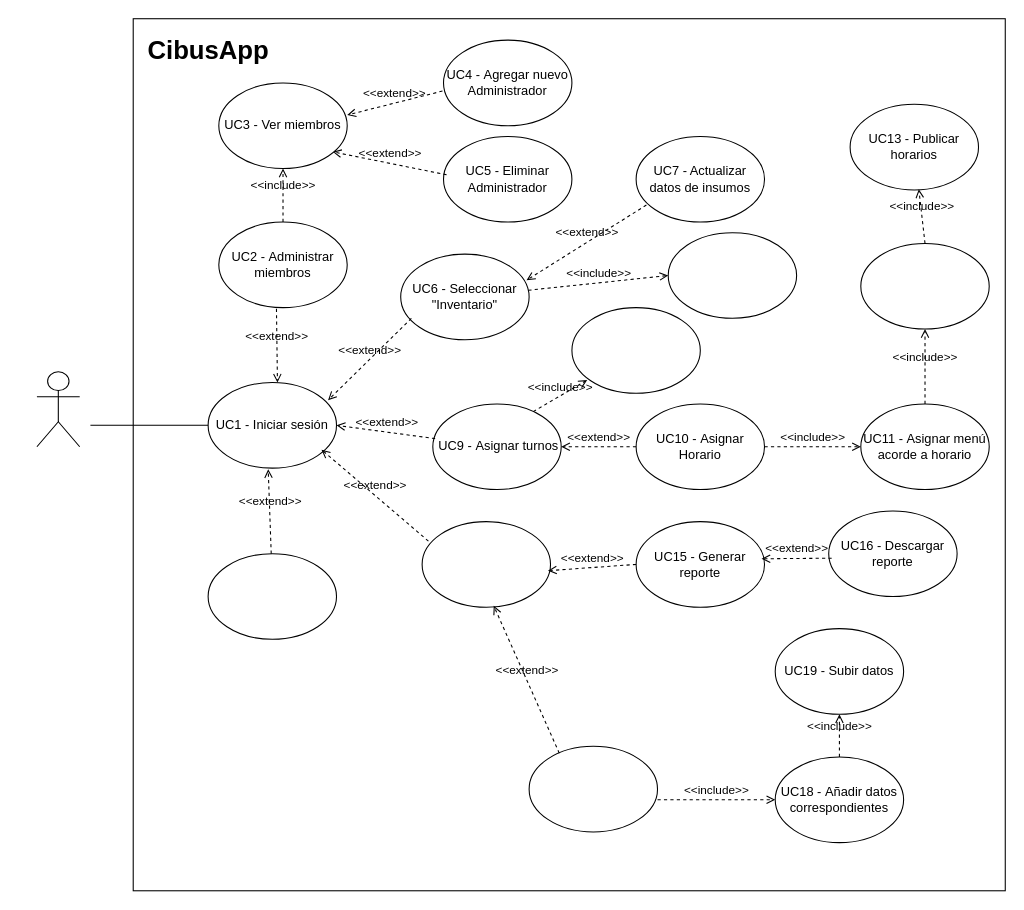
Some shapes in this 1024 by 910 pixel diagram are drawn without their labels. The centre of each missing label's shape, as x and y in pixels:
Administrador: point 58,409
UC12 - Añadir datos para el menú: point 924,285
UC14 - Seleccionar "Reporte": point 486,564
UC17 - Cerrar Sesión: point 272,596
UC17 - Registrar consumo diario: point 593,788
UC20 - Consultar Horario: point 635,350
UC8 - Visualizar Inventario: point 732,275
